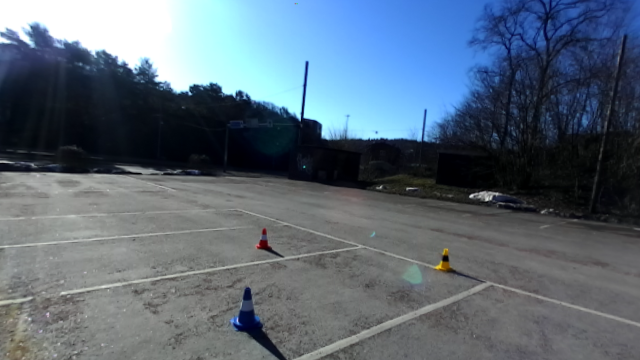blue: (226, 281, 267, 332)
orange: (253, 227, 274, 252)
yellow: (435, 245, 454, 271)
